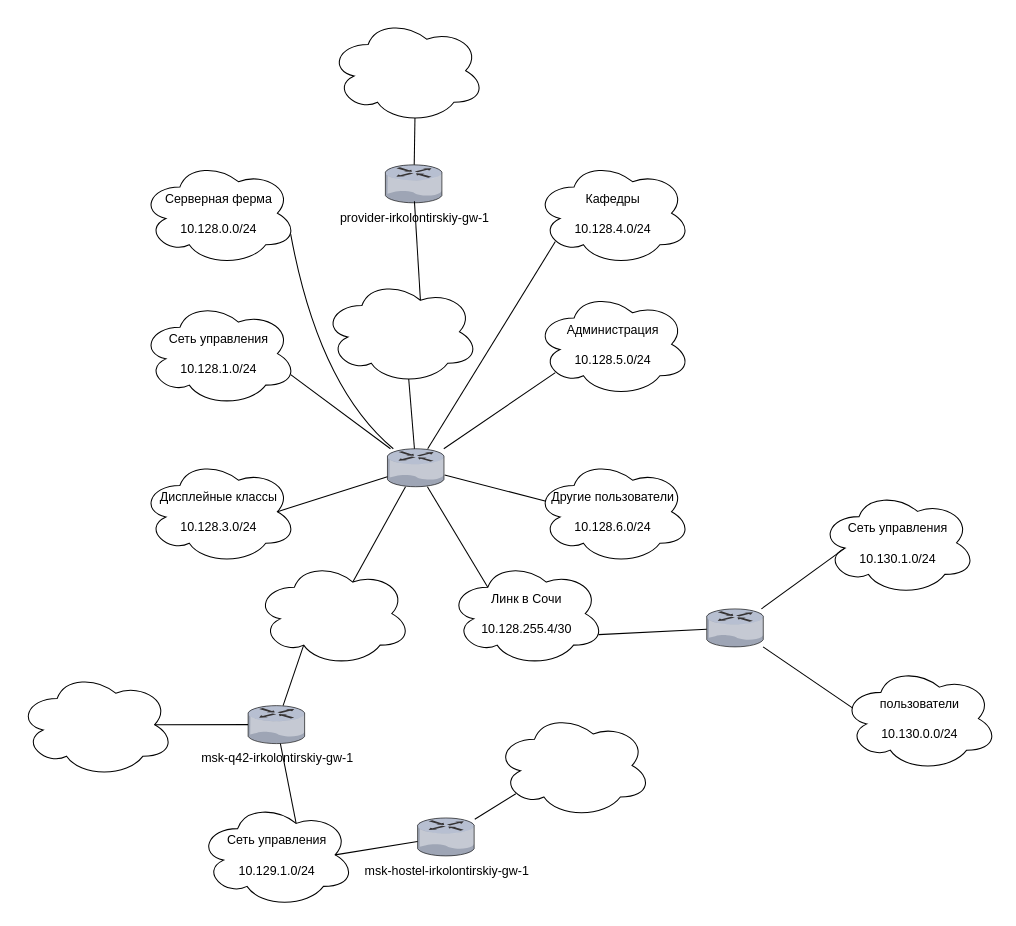
Some shapes in this 1016 by 926 pixel diagram are drawn without their labels. Each missing label, with the centre of its shape:
"msk-donskaya-irkolontirskiy-gw-1" belongs at [415,467].
"sch-sochi-irkolontirskiy-gw-1" belongs at [734,627].
"Интернет 192.0.2.0/24" belongs at [406,70].
"Линк на 42й 10.128.255.0/30" belongs at [332,613].
"пользователи 10.129.0.0/24" belongs at [95,724].
"пользователи 10.129.128.0/24" belongs at [573,765].
"Провайдер 198.51.100.0/24" belongs at [400,331].
